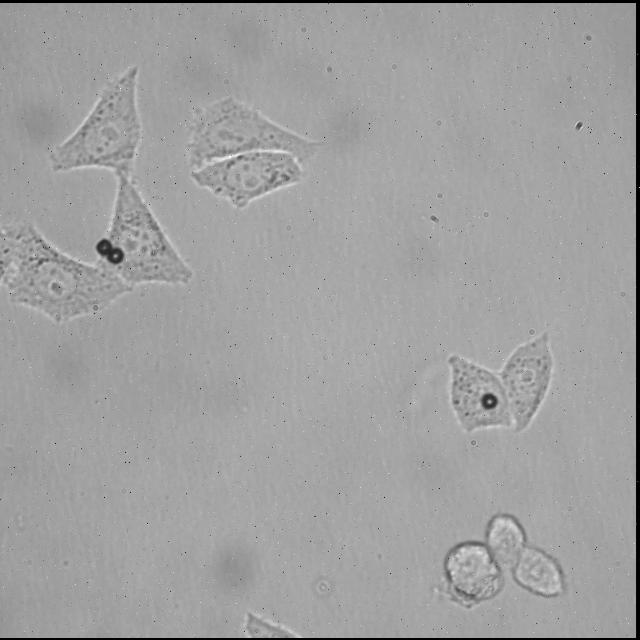microbeads: (482, 390, 502, 412), (95, 238, 115, 258), (105, 248, 126, 264)
